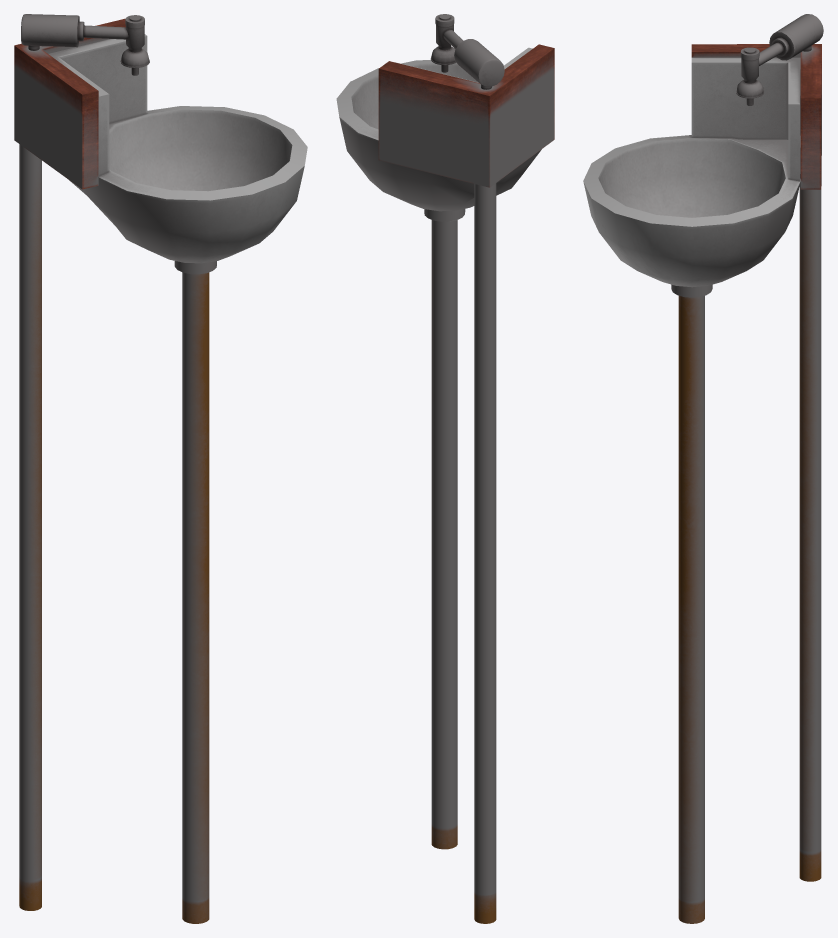
The model's file is SM_Mini_Washbasin.fbx.
3 renders of one model, left to right at view 1: azimuth 30°, elevation 25°; view 2: azimuth 150°, elevation 25°; view 3: azimuth 270°, elevation 25°, orthographic. The views are drawn at different scales.
Visible parts, largest first — view 1: SM_Mini_Washbasin; view 2: SM_Mini_Washbasin; view 3: SM_Mini_Washbasin.
Part boxes in pixels (bbox=[...]): SM_Mini_Washbasin: bbox=[14, 14, 307, 923]; SM_Mini_Washbasin: bbox=[336, 14, 554, 923]; SM_Mini_Washbasin: bbox=[583, 14, 823, 923].
Bounding box in the file's own units: 23.57 × 23.56 × 93.09.
Materials: 1 (1 with a texture image).
